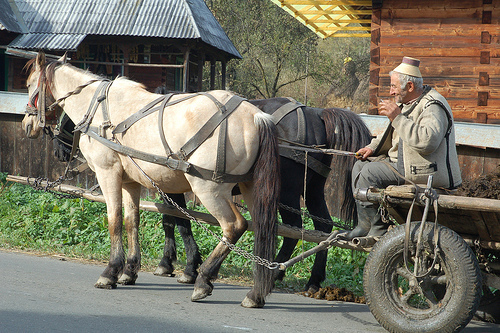horse: (52, 76, 372, 299), (22, 52, 283, 308)
